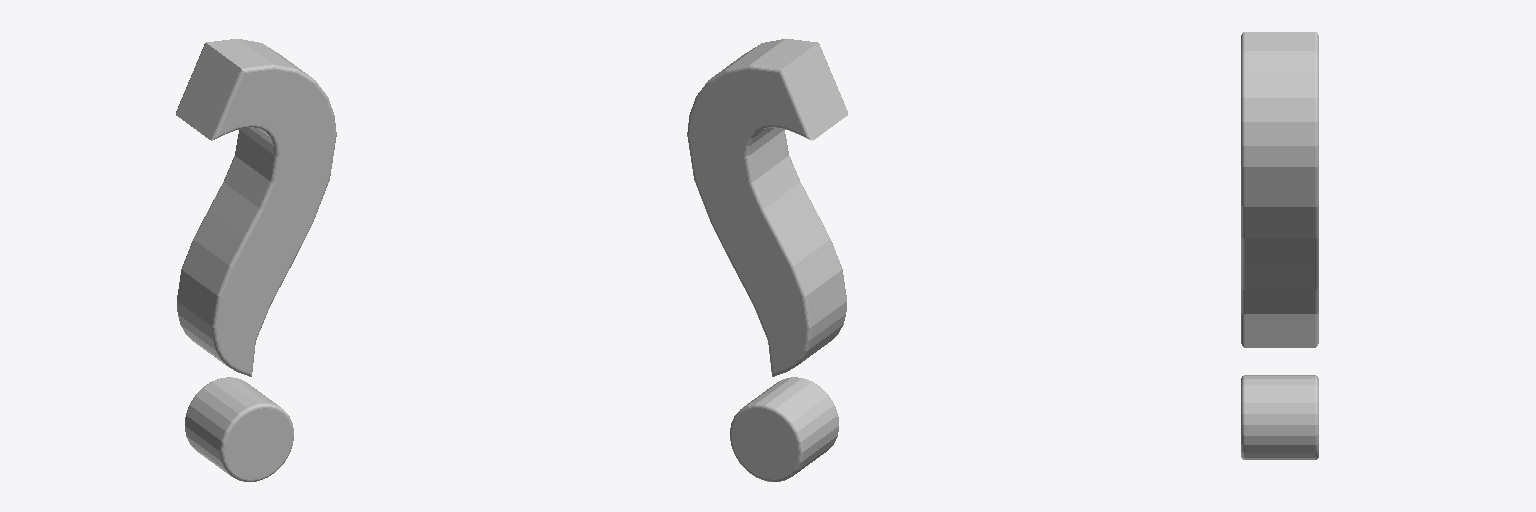
File: model_missing.obj
3 views of the same model, side by side, from view 1: azimuth 30°, elevation 25°; view 2: azimuth 150°, elevation 25°; view 3: azimuth 270°, elevation 25° (orthographic).
Visible parts, largest first — view 1: Text; view 2: Text; view 3: Text.
Part boxes in pixels (x1,y1,x2,y2): Text: (176, 39, 336, 481); Text: (687, 39, 847, 481); Text: (1241, 32, 1318, 459).
Size of the model in its own units: 0.3733 by 1.18 by 0.2.